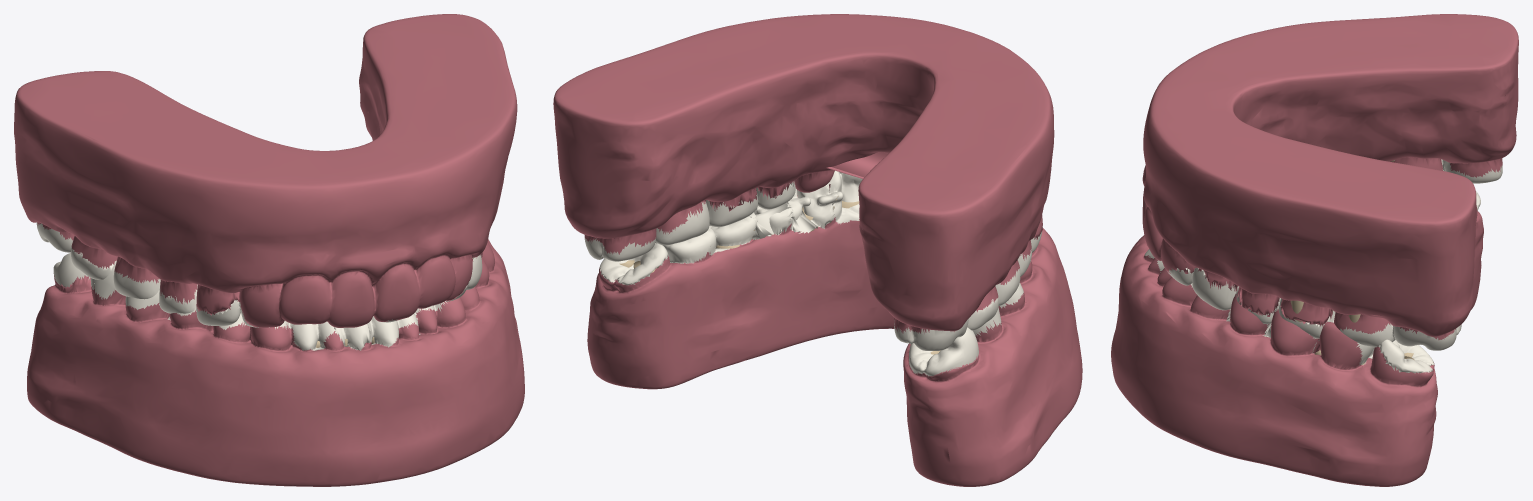
Rendered from dentia-articulado-v2.glb.
3 views of the same model, side by side, from view 1: azimuth 30°, elevation 25°; view 2: azimuth 150°, elevation 25°; view 3: azimuth 270°, elevation 25° (orthographic). The views are drawn at different scales.
Parts seen in each view (by area): view 1: ENCIA_UPPER, ENCIA_LOWER, FDI_42_CORONA, FDI_16_CORONA, EXTRA_L_01_CORONA, FDI_14_CORONA, FDI_41_CORONA, FDI_48_CORONA, FDI_17_CORONA, FDI_15_CORONA, FDI_18_CORONA; view 2: ENCIA_UPPER, ENCIA_LOWER, FDI_48_CORONA, FDI_34_CORONA, FDI_38_CORONA, FDI_33_CORONA, FDI_36_CORONA, FDI_18_CORONA, FDI_27_CORONA, FDI_35_CORONA, FDI_37_CORONA, FDI_26_CORONA (+2 smaller); view 3: ENCIA_UPPER, ENCIA_LOWER, FDI_38_CORONA, FDI_24_CORONA, FDI_28_CORONA, FDI_27_CORONA, FDI_18_CORONA, FDI_26_CORONA.
Boxes of the visible parts, x1,y1,x2,y2 form: ENCIA_UPPER: (14, 14, 517, 327); ENCIA_LOWER: (27, 239, 524, 486); FDI_42_CORONA: (292, 321, 335, 350); FDI_16_CORONA: (113, 270, 160, 299); EXTRA_L_01_CORONA: (368, 316, 398, 347); FDI_14_CORONA: (196, 300, 240, 325); FDI_41_CORONA: (334, 323, 370, 350); FDI_48_CORONA: (53, 253, 89, 287); FDI_17_CORONA: (71, 247, 116, 279); FDI_15_CORONA: (157, 279, 197, 313); FDI_18_CORONA: (36, 222, 73, 252); ENCIA_UPPER: (553, 14, 1054, 333); ENCIA_LOWER: (587, 184, 1082, 486); FDI_48_CORONA: (909, 327, 978, 376); FDI_34_CORONA: (787, 183, 838, 233); FDI_38_CORONA: (599, 243, 668, 285); FDI_33_CORONA: (828, 170, 862, 224); FDI_36_CORONA: (704, 216, 755, 255); FDI_18_CORONA: (894, 319, 968, 350); FDI_27_CORONA: (655, 202, 709, 245); FDI_35_CORONA: (748, 202, 792, 239); FDI_37_CORONA: (655, 233, 710, 263); FDI_26_CORONA: (706, 194, 757, 226); ENCIA_UPPER: (1142, 14, 1518, 340); ENCIA_LOWER: (1111, 211, 1483, 486); FDI_38_CORONA: (1379, 339, 1434, 373); FDI_24_CORONA: (1192, 268, 1236, 310); FDI_28_CORONA: (1392, 325, 1461, 350); FDI_27_CORONA: (1340, 323, 1395, 347); FDI_18_CORONA: (1441, 159, 1502, 183); FDI_26_CORONA: (1278, 298, 1335, 338).
Bounding box in the file's own units: 0.064 × 0.0405 × 0.0531.
